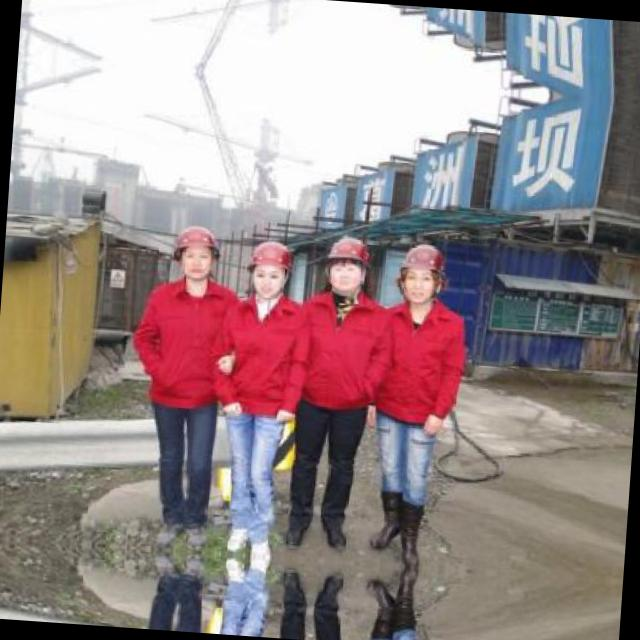helmet: (389, 234, 452, 309), (167, 216, 224, 286), (318, 230, 373, 298), (243, 235, 296, 300)
